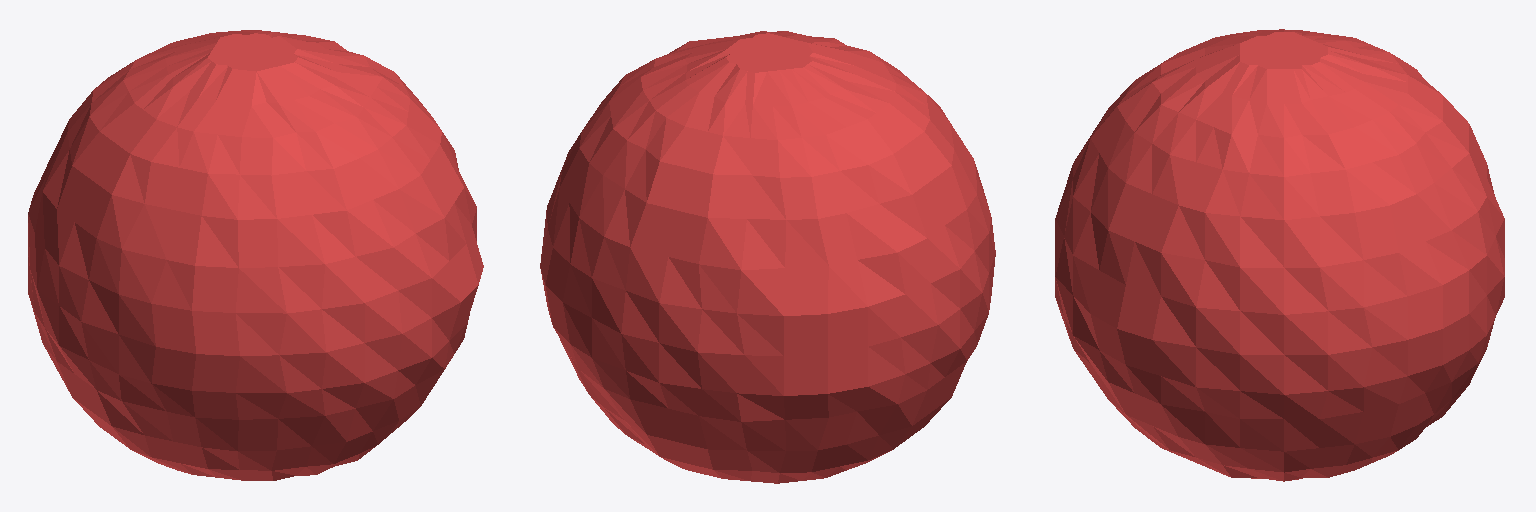
Rendered from oeil_droit.obj.
3 renders of one model, left to right at view 1: azimuth 30°, elevation 25°; view 2: azimuth 150°, elevation 25°; view 3: azimuth 270°, elevation 25°, orthographic.
Visible parts, largest first — view 1: Sphere01; view 2: Sphere01; view 3: Sphere01.
Part boxes in pixels (x1,y1,x2,y2): Sphere01: (28,30,483,480); Sphere01: (540,31,995,483); Sphere01: (1055,29,1504,481).
Bounding box in the file's own units: 0.51 × 0.51 × 0.51.